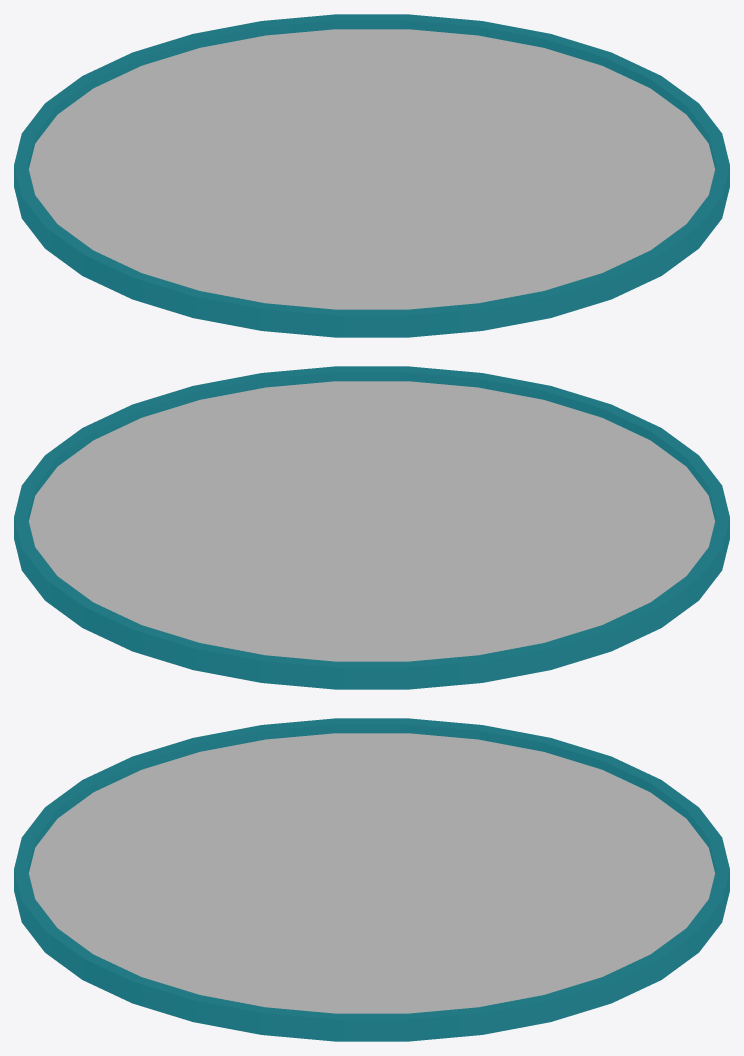
Rendered from SFI0510023.fbx.
3 views of the same model, one above another, from view 1: azimuth 30°, elevation 25°; view 2: azimuth 150°, elevation 25°; view 3: azimuth 270°, elevation 25° (orthographic).
Visible parts, largest first — view 1: smSFI0510023; view 2: smSFI0510023; view 3: smSFI0510023.
Boxes of the visible parts, left/top/right/bottom form: smSFI0510023: left=14, top=14, right=729, bottom=337; smSFI0510023: left=14, top=366, right=729, bottom=689; smSFI0510023: left=14, top=718, right=729, bottom=1041.
Size of the model in its own units: 199 by 6.83 by 200.
